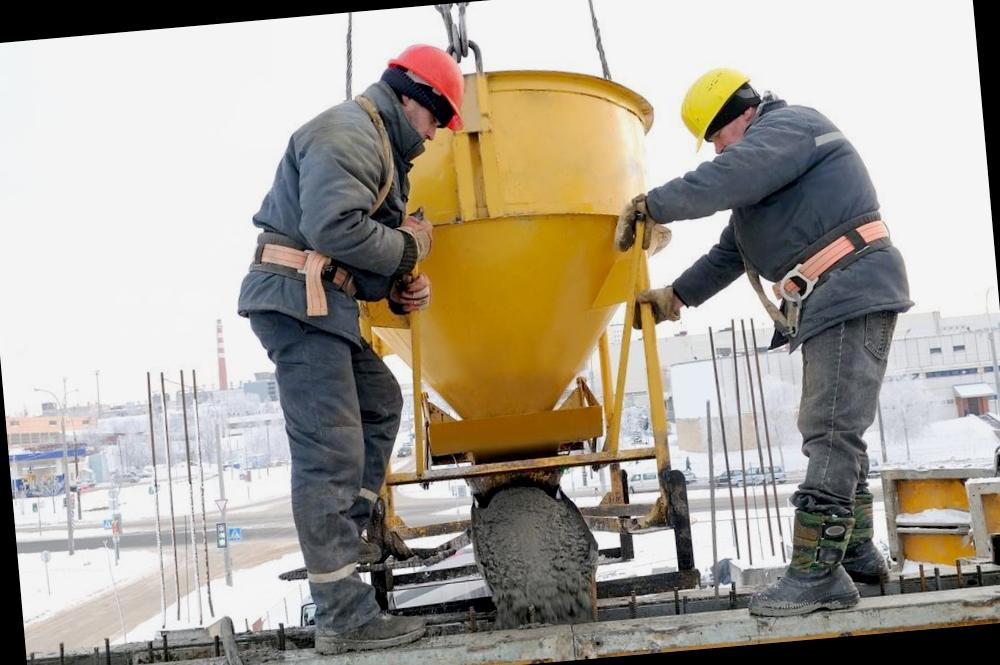helmet: (376, 35, 484, 138), (670, 55, 768, 164)
no_vest: (254, 86, 419, 299), (714, 97, 870, 272)
person: (220, 29, 514, 654), (650, 37, 954, 626)
